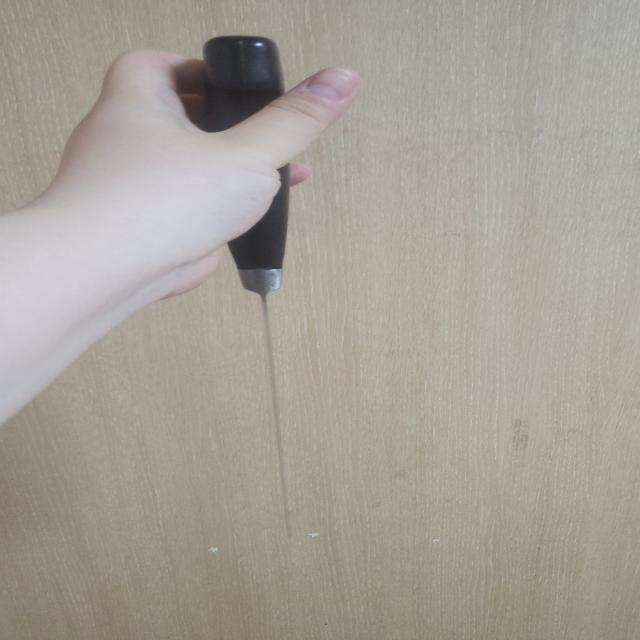knife: (202, 36, 290, 538)
